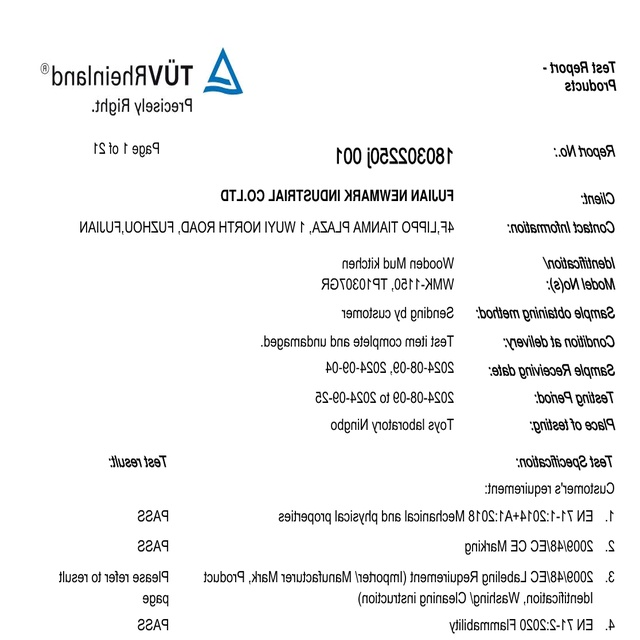tuv_rheinland: (39, 47, 247, 99)
